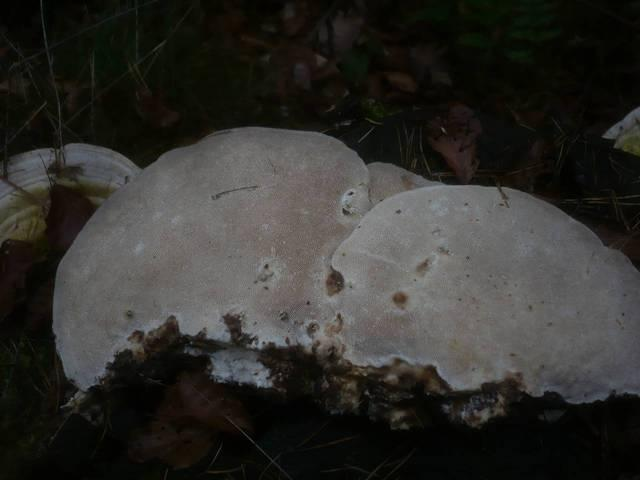poisonous_mushroom: (49, 123, 638, 429)
